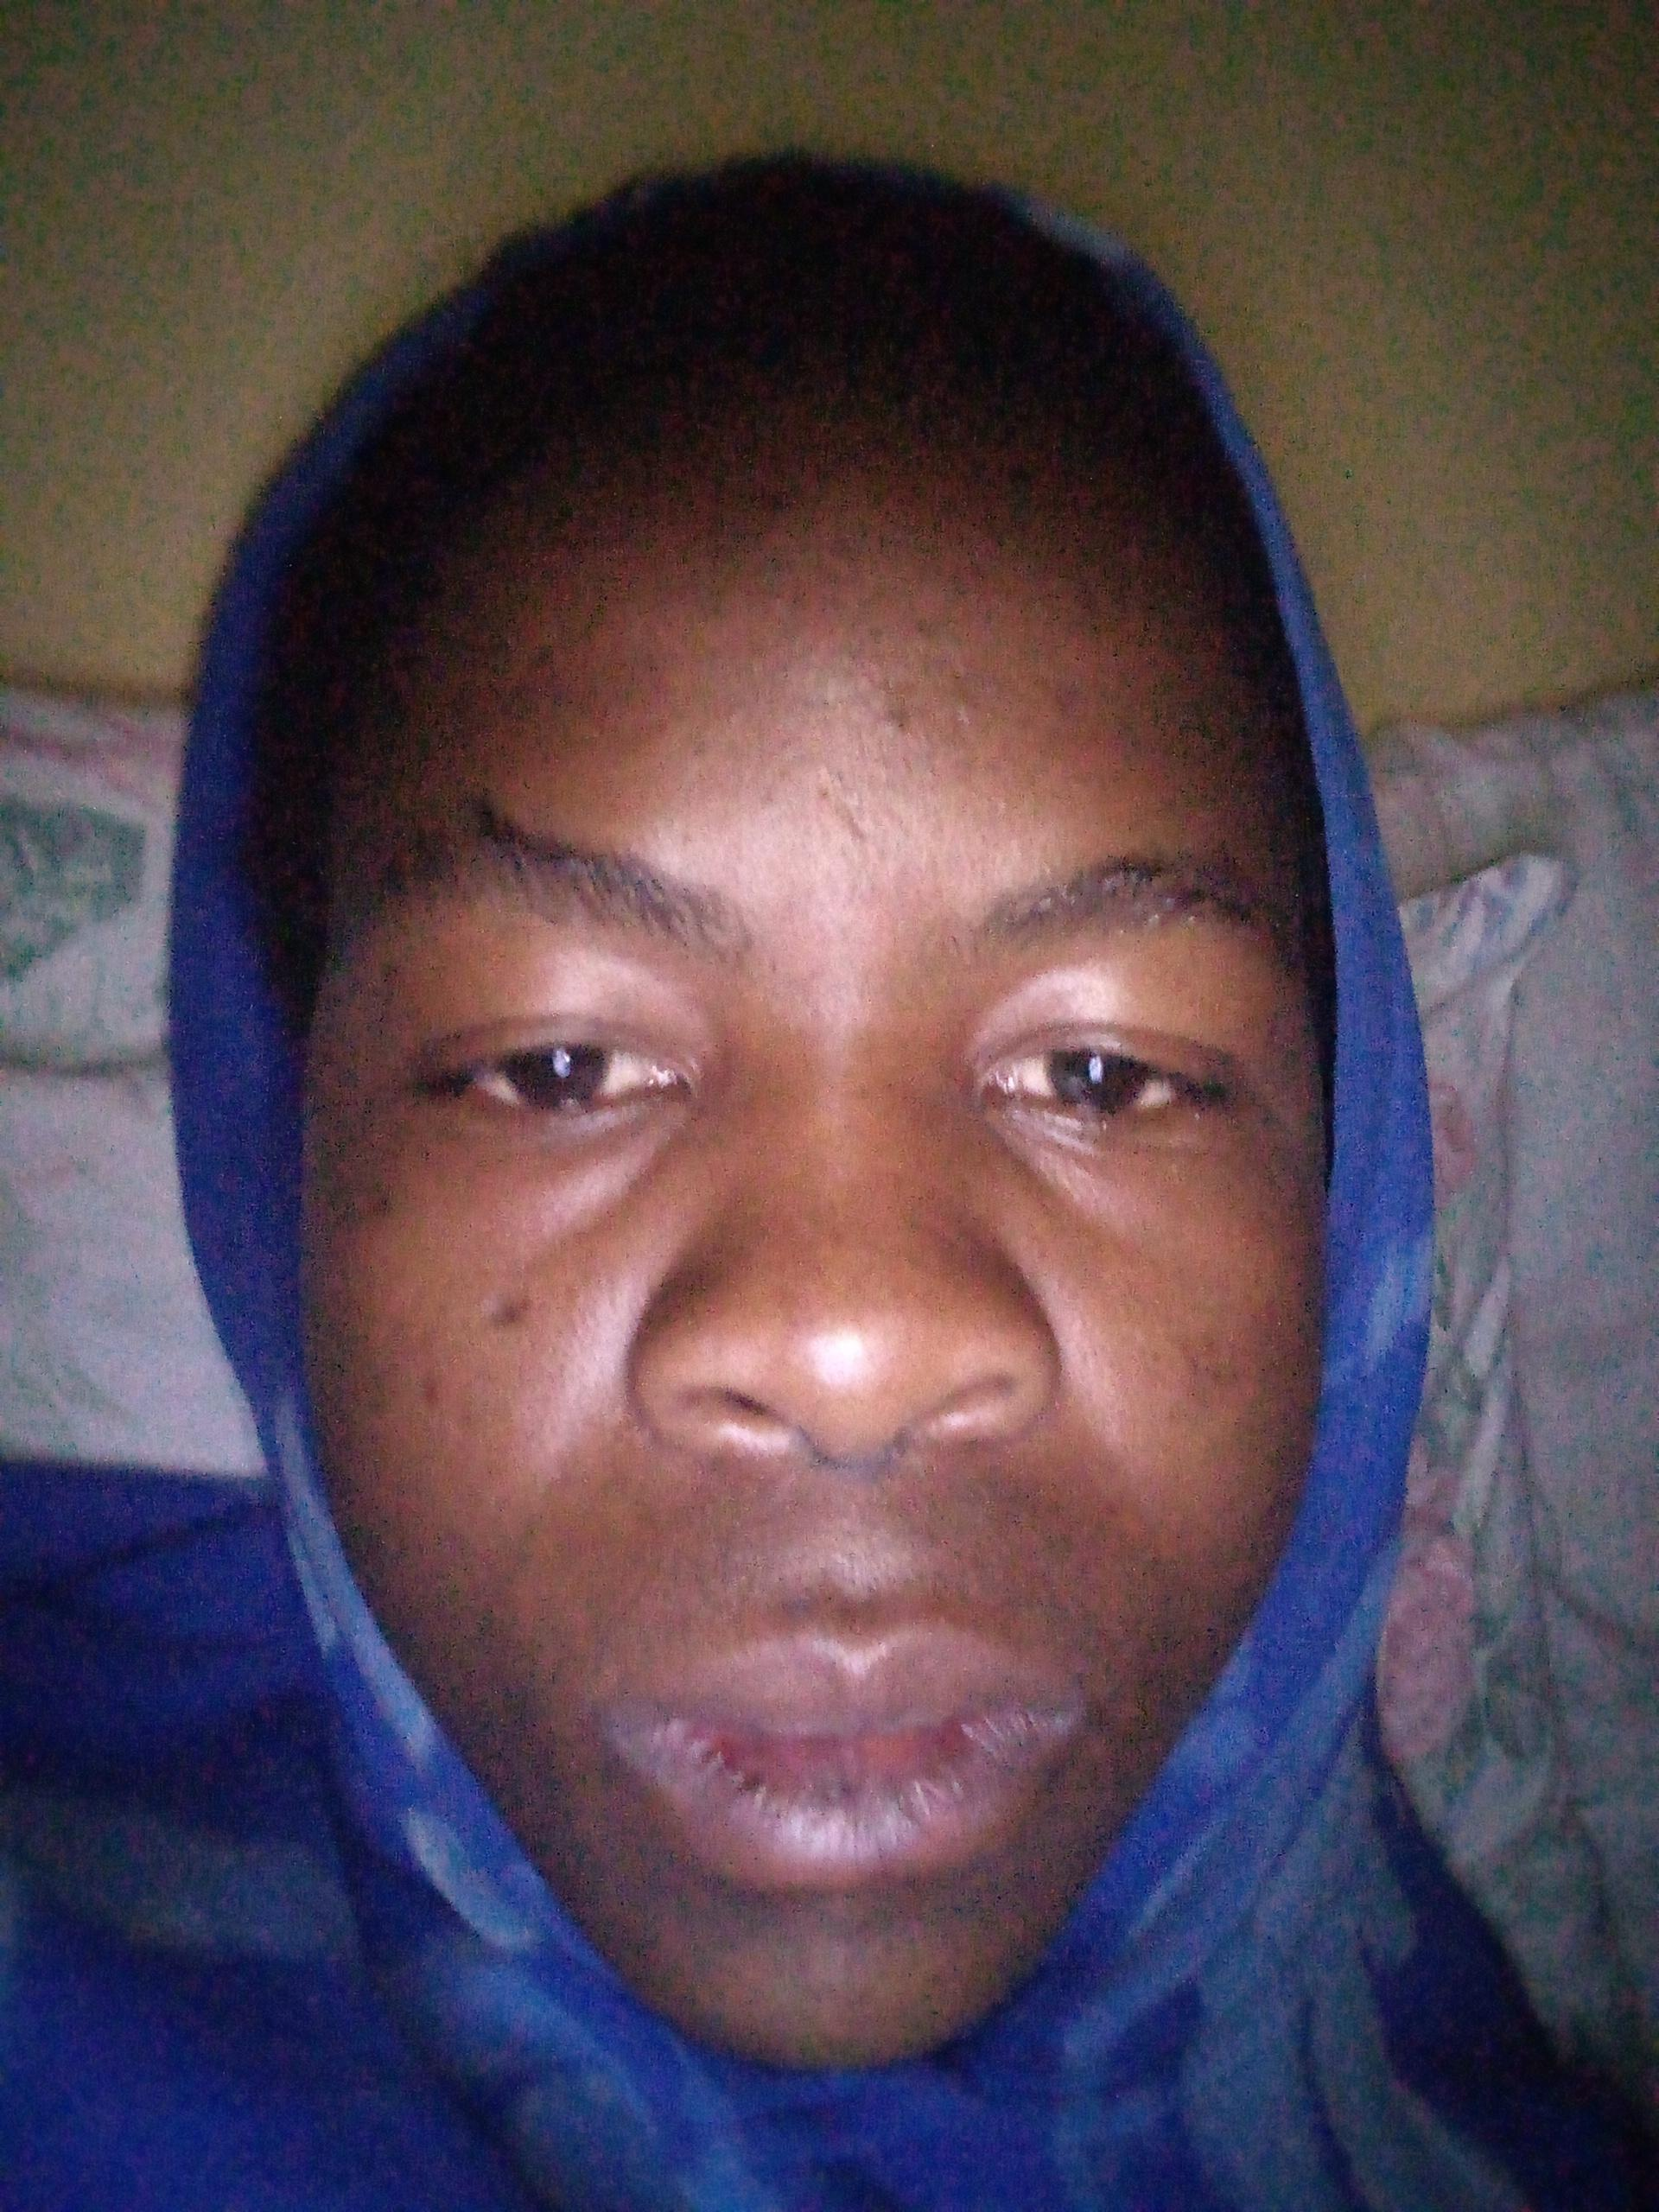Acne: (877, 695, 927, 742), (526, 644, 559, 674)
